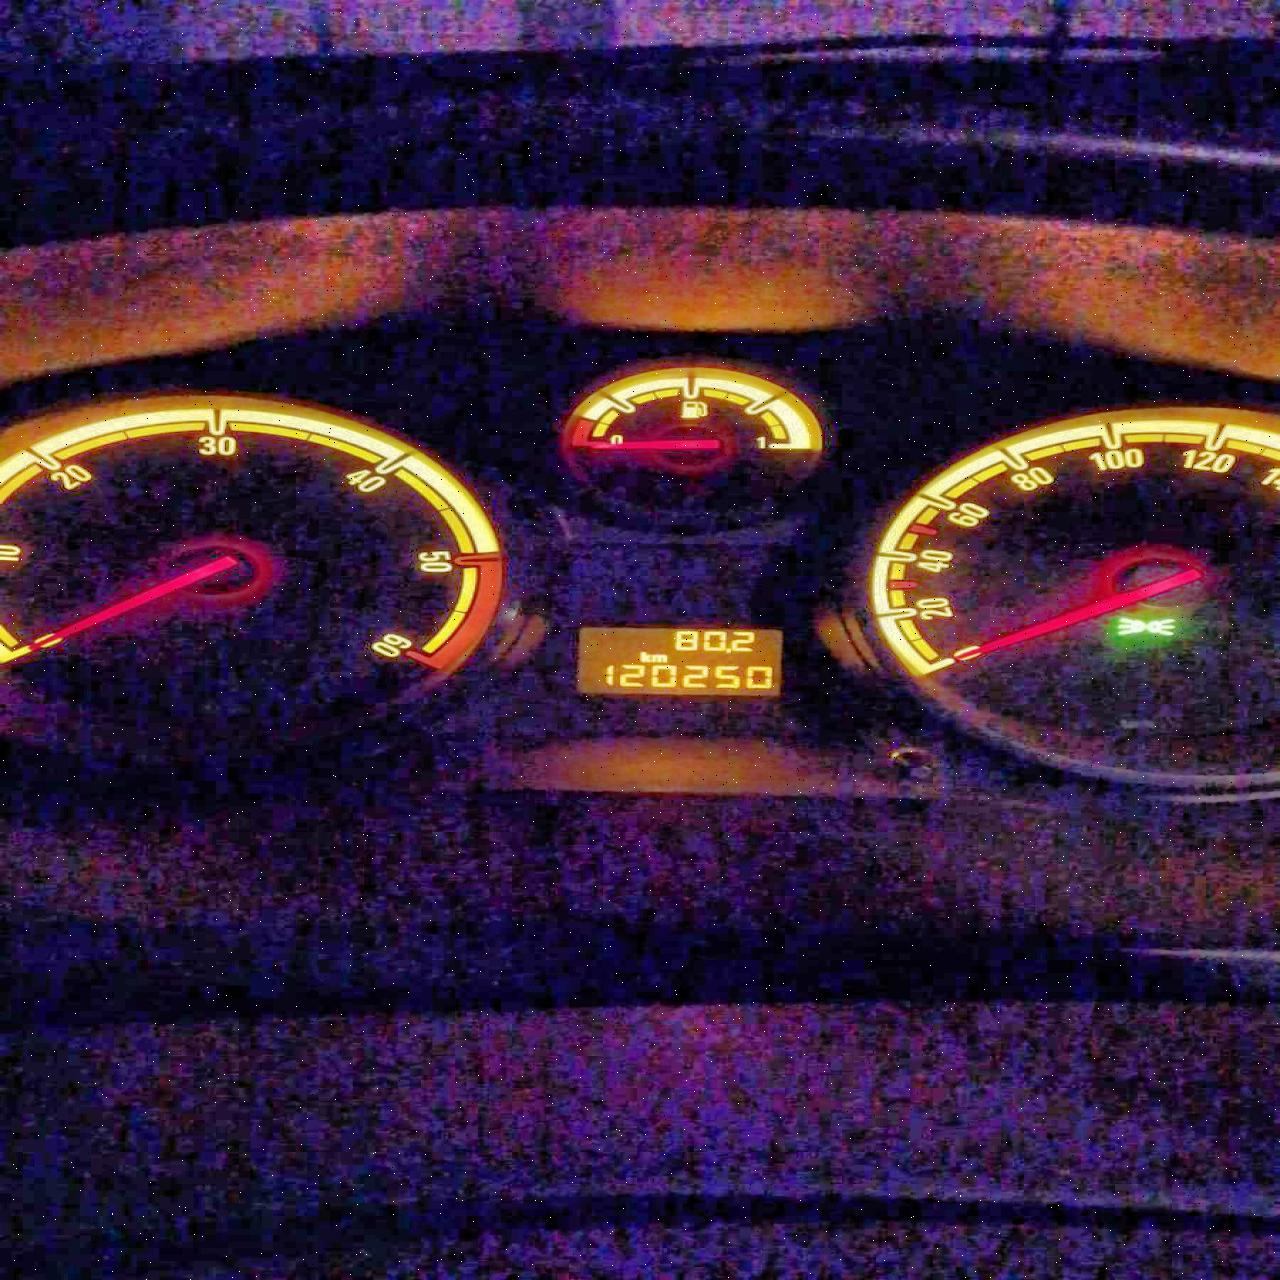-: (724, 647, 731, 653)
0: (648, 663, 675, 687), (744, 666, 772, 688), (701, 631, 726, 652)
1: (602, 663, 613, 685)
2: (618, 663, 645, 686), (681, 665, 708, 687), (729, 632, 754, 651)
5: (713, 665, 740, 688)
8: (673, 631, 699, 651)
X: (639, 651, 651, 662), (651, 654, 667, 662)
odometer: (573, 625, 785, 697)
